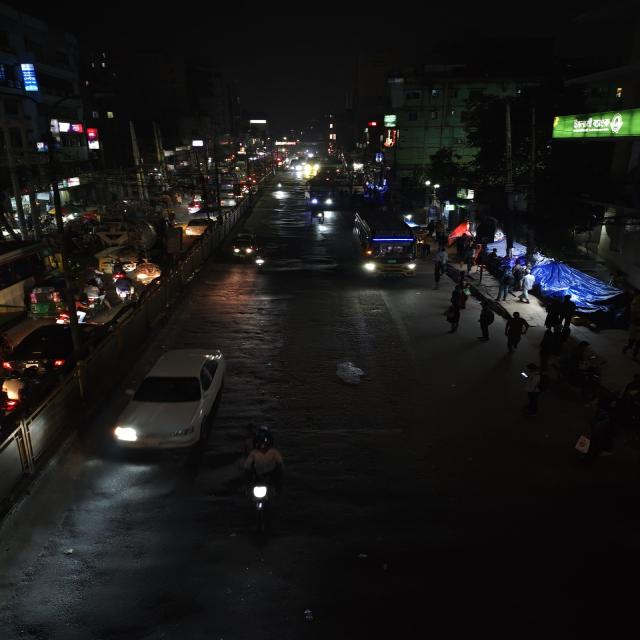bus: (0, 235, 67, 318), (349, 208, 422, 282), (307, 178, 338, 211)
car: (113, 342, 235, 457), (1, 320, 104, 378), (180, 216, 218, 237)
cng: (27, 276, 72, 316), (230, 229, 258, 263)
motorcycle: (239, 422, 289, 532), (556, 338, 607, 390), (0, 363, 49, 415), (74, 274, 109, 312), (111, 273, 137, 303)
pedestrian: (517, 362, 552, 414), (502, 310, 529, 353), (472, 304, 498, 341), (439, 304, 469, 332)
pickup_van: (532, 256, 637, 326)
truck: (98, 218, 165, 254)
